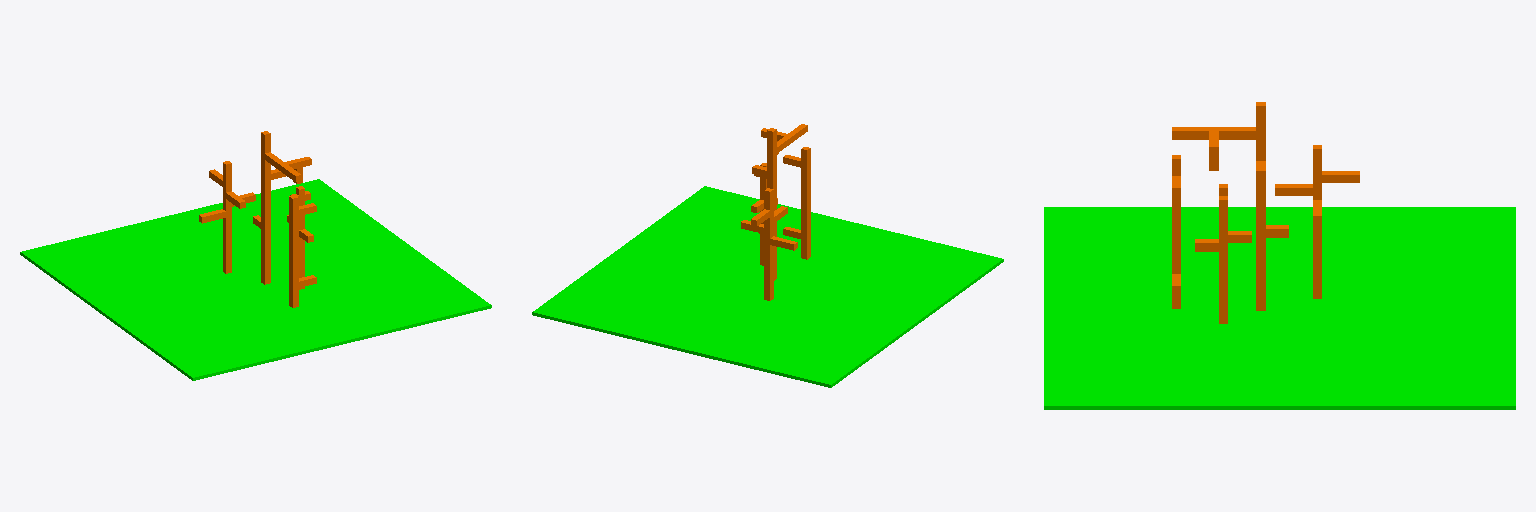
URDF robot description (scene_mingruiyu_0):
<?xml version="1.0" ?>
<!-- =================================================================================== -->
<!-- |    This document was autogenerated by xacro from scene_mingruiyu_4.xacro        | -->
<!-- |    EDITING THIS FILE BY HAND IS NOT RECOMMENDED                                 | -->
<!-- =================================================================================== -->
<robot name="scene_mingruiyu_0">
  <material name="dark_gray">
    <color rgba="0.2 0.2 0.2 1.0"/>
  </material>
  <material name="gray">
    <color rgba="0.3 0.3 0.3 1.0"/>
  </material>
  <material name="light_gray">
    <color rgba="0.4 0.4 0.4 1.0"/>
  </material>
  <material name="yellow">
    <color rgba="0.8 0.8 0.0 1.0"/>
  </material>
  <material name="orange">
    <color rgba="1.0 0.5 0.0 1.0"/>
  </material>
  <material name="green">
    <color rgba="0.0 1.0 0.0 1.0"/>
  </material>
  <material name="teal">
    <color rgba="0.0 1.0 1.0 1.0"/>
  </material>
  <material name="black">
    <color rgba="0.15 0.15 0.15 1.0"/>
  </material>
  <!-- GROUND PLANE -->
  <link name="ground_plane">
    <visual>
      <geometry>
        <box size="1 1 0.01"/>
      </geometry>
      <origin rpy="0 0 0" xyz="0 0 -0.005"/>
      <material name="green"/>
    </visual>
    <collision>
      <geometry>
        <box size="1 1 0.01"/>
      </geometry>
      <origin rpy="0 0 0" xyz="0 0 -0.005"/>
    </collision>
  </link>
  <!-- OBSTACLES (created from square poles) -->
  <link name="pole_1_root_link">
    <visual>
      <geometry>
        <box size="0.02 0.02 0.35"/>
      </geometry>
      <origin rpy="0 0 0" xyz="0 0 0.175"/>
      <material name="orange"/>
    </visual>
    <collision>
      <geometry>
        <box size="0.02 0.02 0.35"/>
      </geometry>
      <origin rpy="0 0 0" xyz="0 0 0.175"/>
    </collision>
  </link>
  <joint name="pole_1_fixture_joint" type="fixed">
    <parent link="ground_plane"/>
    <child link="pole_1_root_link"/>
    <origin rpy="0 0 0" xyz="0.0 -0.22 0.0"/>
  </joint>
  <link name="pole_1_attachment_1_root_link">
    <visual>
      <geometry>
        <box size="0.02 0.02 0.06"/>
      </geometry>
      <origin rpy="0 0 0" xyz="0 0 0.03"/>
      <material name="orange"/>
    </visual>
    <collision>
      <geometry>
        <box size="0.02 0.02 0.06"/>
      </geometry>
      <origin rpy="0 0 0" xyz="0 0 0.03"/>
    </collision>
  </link>
  <joint name="pole_1_attachment_1_fixture_joint" type="fixed">
    <parent link="pole_1_root_link"/>
    <child link="pole_1_attachment_1_root_link"/>
    <origin rpy="1.5707963267948966 0 1.5707963267948966" xyz="0.01 0.0 0.30"/>
  </joint>
  <link name="pole_1_attachment_2_root_link">
    <visual>
      <geometry>
        <box size="0.02 0.02 0.06"/>
      </geometry>
      <origin rpy="0 0 0" xyz="0 0 0.03"/>
      <material name="orange"/>
    </visual>
    <collision>
      <geometry>
        <box size="0.02 0.02 0.06"/>
      </geometry>
      <origin rpy="0 0 0" xyz="0 0 0.03"/>
    </collision>
  </link>
  <joint name="pole_1_attachment_2_fixture_joint" type="fixed">
    <parent link="pole_1_root_link"/>
    <child link="pole_1_attachment_2_root_link"/>
    <origin rpy="1.5707963267948966 0 1.5707963267948966" xyz="0.01 0.0 0.07"/>
  </joint>
  <!-- ====================== POLE 1 : END ====================== -->
  <link name="pole_2_root_link">
    <visual>
      <geometry>
        <box size="0.02 0.02 0.32"/>
      </geometry>
      <origin rpy="0 0 0" xyz="0 0 0.16"/>
      <material name="orange"/>
    </visual>
    <collision>
      <geometry>
        <box size="0.02 0.02 0.32"/>
      </geometry>
      <origin rpy="0 0 0" xyz="0 0 0.16"/>
    </collision>
  </link>
  <joint name="pole_2_fixture_joint" type="fixed">
    <parent link="ground_plane"/>
    <child link="pole_2_root_link"/>
    <origin rpy="0 0 0" xyz="0.08 -0.12 0.0"/>
  </joint>
  <link name="pole_2_attachment_1_root_link">
    <visual>
      <geometry>
        <box size="0.02 0.02 0.02"/>
      </geometry>
      <origin rpy="0 0 0" xyz="0 0 0.01"/>
      <material name="orange"/>
    </visual>
    <collision>
      <geometry>
        <box size="0.02 0.02 0.02"/>
      </geometry>
      <origin rpy="0 0 0" xyz="0 0 0.01"/>
    </collision>
  </link>
  <joint name="pole_2_attachment_1_fixture_joint" type="fixed">
    <parent link="pole_2_root_link"/>
    <child link="pole_2_attachment_1_root_link"/>
    <origin rpy="1.5707963267948966 0 1.5707963267948966" xyz="0.01 0.0 0.29"/>
  </joint>
  <link name="pole_2_attachment_2_root_link">
    <visual>
      <geometry>
        <box size="0.02 0.02 0.02"/>
      </geometry>
      <origin rpy="0 0 0" xyz="0 0 0.01"/>
      <material name="orange"/>
    </visual>
    <collision>
      <geometry>
        <box size="0.02 0.02 0.02"/>
      </geometry>
      <origin rpy="0 0 0" xyz="0 0 0.01"/>
    </collision>
  </link>
  <joint name="pole_2_attachment_2_fixture_joint" type="fixed">
    <parent link="pole_2_root_link"/>
    <child link="pole_2_attachment_2_root_link"/>
    <origin rpy="1.5707963267948966 0 4.71238898038469" xyz="-0.01 0.0 0.29"/>
  </joint>
  <link name="pole_2_attachment_3_root_link">
    <visual>
      <geometry>
        <box size="0.02 0.02 0.05"/>
      </geometry>
      <origin rpy="0 0 0" xyz="0 0 0.025"/>
      <material name="orange"/>
    </visual>
    <collision>
      <geometry>
        <box size="0.02 0.02 0.05"/>
      </geometry>
      <origin rpy="0 0 0" xyz="0 0 0.025"/>
    </collision>
  </link>
  <joint name="pole_2_attachment_3_fixture_joint" type="fixed">
    <parent link="pole_2_root_link"/>
    <child link="pole_2_attachment_3_root_link"/>
    <origin rpy="1.5707963267948966 0 3.141592653589793" xyz="0.0 0.01 0.20"/>
  </joint>
  <link name="pole_2_attachment_4_root_link">
    <visual>
      <geometry>
        <box size="0.02 0.02 0.05"/>
      </geometry>
      <origin rpy="0 0 0" xyz="0 0 0.025"/>
      <material name="orange"/>
    </visual>
    <collision>
      <geometry>
        <box size="0.02 0.02 0.05"/>
      </geometry>
      <origin rpy="0 0 0" xyz="0 0 0.025"/>
    </collision>
  </link>
  <joint name="pole_2_attachment_4_fixture_joint" type="fixed">
    <parent link="pole_2_root_link"/>
    <child link="pole_2_attachment_4_root_link"/>
    <origin rpy="1.5707963267948966 0 0" xyz="0 -0.01 0.18"/>
  </joint>
  <!-- ====================== POLE 2 : END ====================== -->
  <link name="pole_3_root_link">
    <visual>
      <geometry>
        <box size="0.02 0.02 0.48"/>
      </geometry>
      <origin rpy="0 0 0" xyz="0 0 0.24"/>
      <material name="orange"/>
    </visual>
    <collision>
      <geometry>
        <box size="0.02 0.02 0.48"/>
      </geometry>
      <origin rpy="0 0 0" xyz="0 0 0.24"/>
    </collision>
  </link>
  <joint name="pole_3_fixture_joint" type="fixed">
    <parent link="ground_plane"/>
    <child link="pole_3_root_link"/>
    <origin rpy="0 0 0" xyz="0.01 -0.04 0.0"/>
  </joint>
  <link name="pole_3_attachment_1_root_link">
    <visual>
      <geometry>
        <box size="0.02 0.02 0.18"/>
      </geometry>
      <origin rpy="0 0 0" xyz="0 0 0.09"/>
      <material name="orange"/>
    </visual>
    <collision>
      <geometry>
        <box size="0.02 0.02 0.18"/>
      </geometry>
      <origin rpy="0 0 0" xyz="0 0 0.09"/>
    </collision>
  </link>
  <joint name="pole_3_attachment_1_fixture_joint" type="fixed">
    <parent link="pole_3_root_link"/>
    <child link="pole_3_attachment_1_root_link"/>
    <origin rpy="1.5707963267948966 0 0" xyz="0 -0.01 0.41"/>
  </joint>
  <link name="pole_3_attachment_1_1_root_link">
    <visual>
      <geometry>
        <box size="0.02 0.02 0.08"/>
      </geometry>
      <origin rpy="0 0 0" xyz="0 0 0.04"/>
      <material name="orange"/>
    </visual>
    <collision>
      <geometry>
        <box size="0.02 0.02 0.08"/>
      </geometry>
      <origin rpy="0 0 0" xyz="0 0 0.04"/>
    </collision>
  </link>
  <joint name="pole_3_attachment_1_1_fixture_joint" type="fixed">
    <parent link="pole_3_attachment_1_root_link"/>
    <child link="pole_3_attachment_1_1_root_link"/>
    <origin rpy="0 1.5707963267948966 0" xyz="0.01 0.0 0.09"/>
  </joint>
  <link name="pole_3_attachment_1_1_1_root_link">
    <visual>
      <geometry>
        <box size="0.02 0.02 0.05"/>
      </geometry>
      <origin rpy="0 0 0" xyz="0 0 0.025"/>
      <material name="orange"/>
    </visual>
    <collision>
      <geometry>
        <box size="0.02 0.02 0.05"/>
      </geometry>
      <origin rpy="0 0 0" xyz="0 0 0.025"/>
    </collision>
  </link>
  <joint name="pole_3_attachment_1_1_1_fixture_joint" type="fixed">
    <parent link="pole_3_attachment_1_1_root_link"/>
    <child link="pole_3_attachment_1_1_1_root_link"/>
    <origin rpy="1.5707963267948966 0 0" xyz="0 -0.01 0.04"/>
  </joint>
  <link name="pole_3_attachment_2_root_link">
    <visual>
      <geometry>
        <box size="0.02 0.02 0.05"/>
      </geometry>
      <origin rpy="0 0 0" xyz="0 0 0.025"/>
      <material name="orange"/>
    </visual>
    <collision>
      <geometry>
        <box size="0.02 0.02 0.05"/>
      </geometry>
      <origin rpy="0 0 0" xyz="0 0 0.025"/>
    </collision>
  </link>
  <joint name="pole_3_attachment_2_fixture_joint" type="fixed">
    <parent link="pole_3_root_link"/>
    <child link="pole_3_attachment_2_root_link"/>
    <origin rpy="1.5707963267948966 0 1.5707963267948966" xyz="0.01 0.0 0.34"/>
  </joint>
  <link name="pole_3_attachment_3_root_link">
    <visual>
      <geometry>
        <box size="0.02 0.02 0.05"/>
      </geometry>
      <origin rpy="0 0 0" xyz="0 0 0.025"/>
      <material name="orange"/>
    </visual>
    <collision>
      <geometry>
        <box size="0.02 0.02 0.05"/>
      </geometry>
      <origin rpy="0 0 0" xyz="0 0 0.025"/>
    </collision>
  </link>
  <joint name="pole_3_attachment_3_fixture_joint" type="fixed">
    <parent link="pole_3_root_link"/>
    <child link="pole_3_attachment_3_root_link"/>
    <origin rpy="1.5707963267948966 0 3.141592653589793" xyz="0.0 0.01 0.18"/>
  </joint>
  <!-- ====================== POLE 3 : END ====================== -->
  <link name="pole_4_root_link">
    <visual>
      <geometry>
        <box size="0.02 0.02 0.35"/>
      </geometry>
      <origin rpy="0 0 0" xyz="0 0 0.175"/>
      <material name="orange"/>
    </visual>
    <collision>
      <geometry>
        <box size="0.02 0.02 0.35"/>
      </geometry>
      <origin rpy="0 0 0" xyz="0 0 0.175"/>
    </collision>
  </link>
  <joint name="pole_4_fixture_joint" type="fixed">
    <parent link="ground_plane"/>
    <child link="pole_4_root_link"/>
    <origin rpy="0 0 0" xyz="-0.05 0.08 0.0"/>
  </joint>
  <link name="pole_4_attachment_1_root_link">
    <visual>
      <geometry>
        <box size="0.02 0.02 0.08"/>
      </geometry>
      <origin rpy="0 0 0" xyz="0 0 0.04"/>
      <material name="orange"/>
    </visual>
    <collision>
      <geometry>
        <box size="0.02 0.02 0.08"/>
      </geometry>
      <origin rpy="0 0 0" xyz="0 0 0.04"/>
    </collision>
  </link>
  <joint name="pole_4_attachment_1_fixture_joint" type="fixed">
    <parent link="pole_4_root_link"/>
    <child link="pole_4_attachment_1_root_link"/>
    <origin rpy="1.5707963267948966 0 0" xyz="0 -0.01 0.25"/>
  </joint>
  <link name="pole_4_attachment_2_root_link">
    <visual>
      <geometry>
        <box size="0.02 0.02 0.08"/>
      </geometry>
      <origin rpy="0 0 0" xyz="0 0 0.04"/>
      <material name="orange"/>
    </visual>
    <collision>
      <geometry>
        <box size="0.02 0.02 0.08"/>
      </geometry>
      <origin rpy="0 0 0" xyz="0 0 0.04"/>
    </collision>
  </link>
  <joint name="pole_4_attachment_2_fixture_joint" type="fixed">
    <parent link="pole_4_root_link"/>
    <child link="pole_4_attachment_2_root_link"/>
    <origin rpy="1.5707963267948966 0 1.5707963267948966" xyz="0.01 0.0 0.22"/>
  </joint>
  <link name="pole_4_attachment_3_root_link">
    <visual>
      <geometry>
        <box size="0.02 0.02 0.08"/>
      </geometry>
      <origin rpy="0 0 0" xyz="0 0 0.04"/>
      <material name="orange"/>
    </visual>
    <collision>
      <geometry>
        <box size="0.02 0.02 0.08"/>
      </geometry>
      <origin rpy="0 0 0" xyz="0 0 0.04"/>
    </collision>
  </link>
  <joint name="pole_4_attachment_3_fixture_joint" type="fixed">
    <parent link="pole_4_root_link"/>
    <child link="pole_4_attachment_3_root_link"/>
    <origin rpy="1.5707963267948966 0 3.141592653589793" xyz="0.0 0.01 0.28"/>
  </joint>
  <link name="pole_4_attachment_4_root_link">
    <visual>
      <geometry>
        <box size="0.02 0.02 0.08"/>
      </geometry>
      <origin rpy="0 0 0" xyz="0 0 0.04"/>
      <material name="orange"/>
    </visual>
    <collision>
      <geometry>
        <box size="0.02 0.02 0.08"/>
      </geometry>
      <origin rpy="0 0 0" xyz="0 0 0.04"/>
    </collision>
  </link>
  <joint name="pole_4_attachment_4_fixture_joint" type="fixed">
    <parent link="pole_4_root_link"/>
    <child link="pole_4_attachment_4_root_link"/>
    <origin rpy="1.5707963267948966 0 4.71238898038469" xyz="-0.01 0.0 0.19"/>
  </joint>
  <!-- ====================== POLE 4 : END ====================== -->
</robot>

--- Render facts (derived) ---
The picture shows the robot from 3 angles, left to right: view 1: azimuth 30°, elevation 25°; view 2: azimuth 150°, elevation 25°; view 3: azimuth 270°, elevation 25°; orthographic projection.
Model scene_mingruiyu_0 with 20 links and 19 joints (19 fixed), rooted at ground_plane, posed every joint at zero.
Links seen in each view (by area): view 1: ground_plane, pole_3_root_link, pole_1_root_link, pole_4_root_link; view 2: ground_plane, pole_1_root_link, pole_4_root_link, pole_3_root_link; view 3: ground_plane, pole_3_root_link, pole_4_root_link, pole_2_root_link, pole_1_root_link, pole_3_attachment_1_root_link.
Boxes of the visible links, x1,y1,x2,y2 form: ground_plane: [20, 179, 491, 380]; pole_3_root_link: [261, 131, 270, 284]; pole_1_root_link: [289, 195, 298, 307]; pole_4_root_link: [223, 161, 231, 273]; ground_plane: [532, 186, 1003, 387]; pole_1_root_link: [801, 147, 810, 259]; pole_4_root_link: [764, 188, 773, 300]; pole_3_root_link: [767, 128, 776, 280]; ground_plane: [1044, 207, 1515, 409]; pole_3_root_link: [1256, 102, 1265, 310]; pole_4_root_link: [1313, 145, 1321, 298]; pole_2_root_link: [1219, 184, 1227, 323]; pole_1_root_link: [1172, 155, 1180, 308]; pole_3_attachment_1_root_link: [1172, 127, 1255, 139].
Size in the robot's own frame: 1 by 1 by 0.49 metres.
Geometry: primitives only (box / cylinder / sphere), no mesh files.
